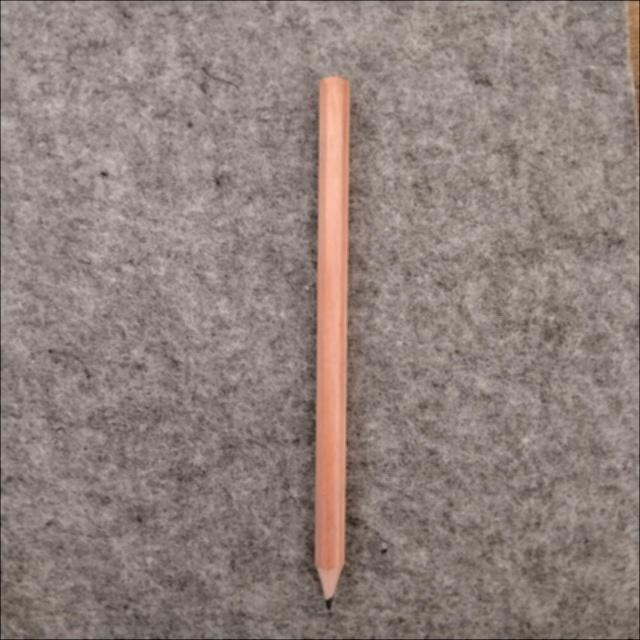pencil: (315, 77, 349, 606)
